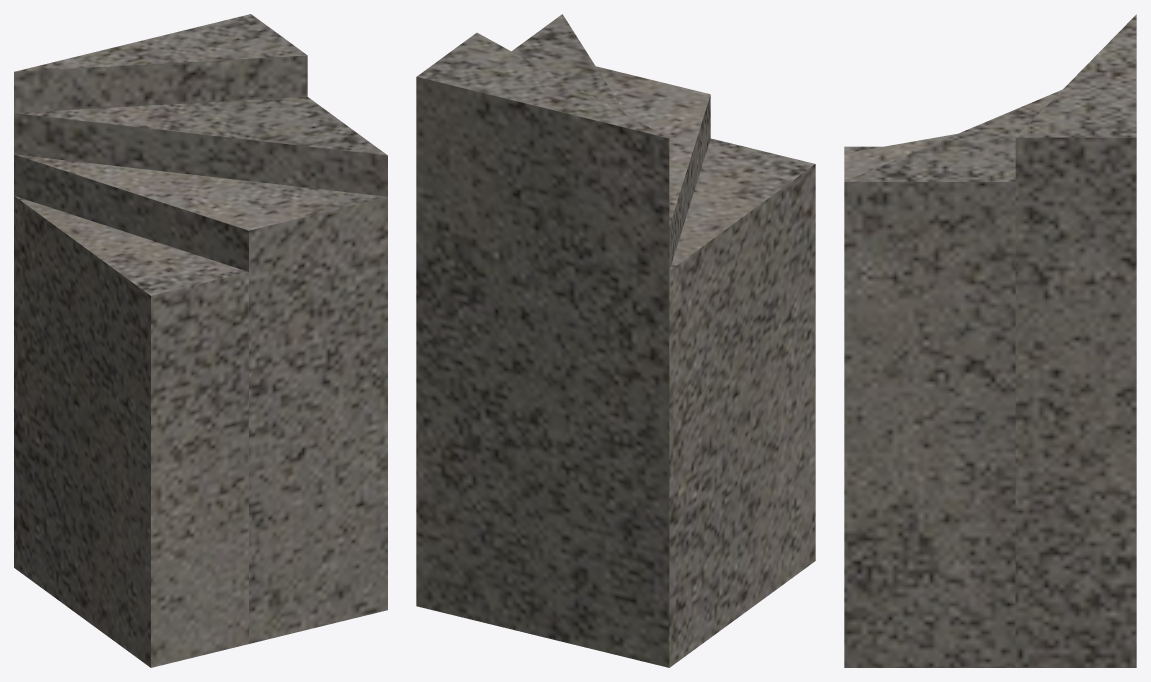
Rendered from H_SpiralStairsR1mC.obj.
3 renders of one model, left to right at view 1: azimuth 30°, elevation 25°; view 2: azimuth 150°, elevation 25°; view 3: azimuth 270°, elevation 25°, orthographic. The views are drawn at different scales.
Size of the model in its own units: 1 by 2 by 1.
Materials: 1 (1 with a texture image).
